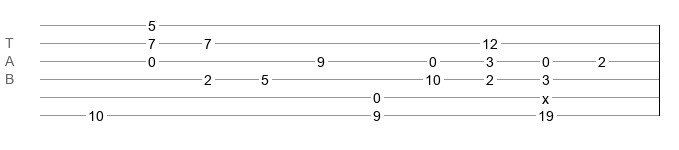0: (148, 54, 156, 64), (373, 90, 381, 100), (429, 54, 437, 64), (542, 54, 550, 64)
10: (88, 108, 104, 118), (425, 72, 441, 82)
12: (482, 36, 498, 46)
19: (538, 108, 554, 118)
2: (204, 72, 212, 82), (486, 72, 494, 82), (598, 54, 606, 64)
3: (486, 54, 494, 64), (542, 72, 550, 82)
5: (148, 18, 156, 28), (261, 72, 269, 82)
7: (148, 36, 156, 46), (204, 36, 212, 46)
9: (317, 54, 325, 64), (373, 108, 381, 118)
x: (542, 91, 549, 99)
